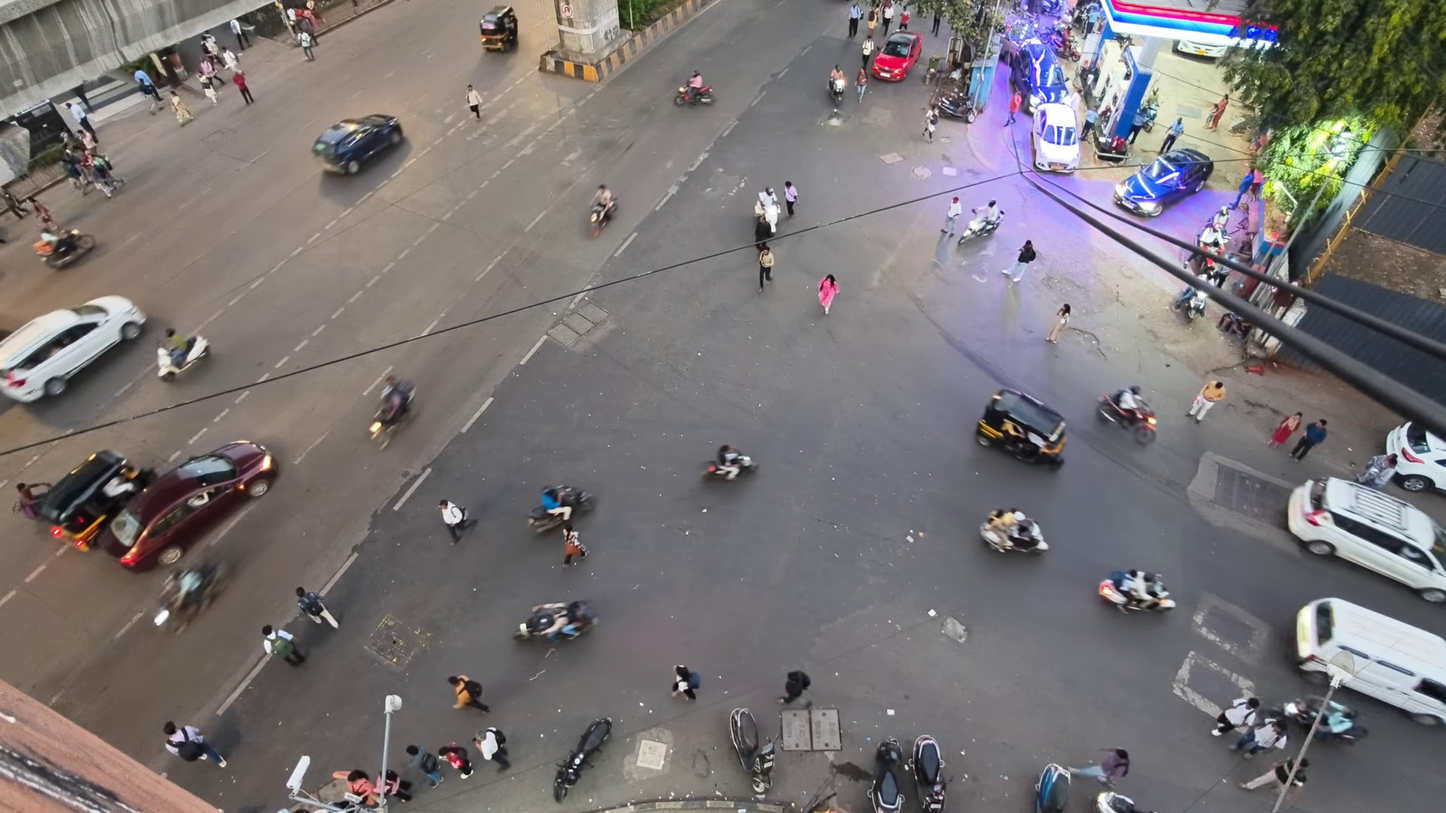walking: (1239, 758, 1309, 799), (163, 722, 226, 767), (1068, 748, 1128, 786), (1231, 720, 1286, 758), (1211, 696, 1259, 735), (295, 586, 338, 628), (332, 769, 379, 806), (262, 626, 305, 665), (405, 744, 443, 787), (439, 499, 474, 544), (1289, 419, 1326, 461), (447, 674, 489, 711), (473, 727, 509, 770), (1188, 382, 1225, 422), (1002, 240, 1036, 282), (1358, 453, 1397, 489), (1229, 168, 1261, 209), (438, 741, 472, 778), (134, 69, 160, 114), (68, 102, 97, 142), (1268, 412, 1302, 446), (779, 671, 810, 704), (26, 196, 56, 230), (671, 665, 700, 700), (563, 524, 587, 565), (383, 769, 412, 801), (1047, 303, 1070, 343), (0, 187, 28, 218), (1160, 117, 1184, 153), (818, 274, 838, 315), (170, 90, 193, 125), (758, 242, 774, 292), (1206, 94, 1228, 129), (941, 197, 961, 235), (1127, 109, 1147, 145), (200, 57, 224, 87), (1079, 108, 1099, 141), (233, 71, 253, 104), (923, 106, 940, 143), (229, 19, 249, 50), (1005, 91, 1022, 126), (466, 85, 481, 120), (848, 0, 862, 37), (200, 32, 219, 59), (755, 215, 771, 247), (784, 181, 798, 216), (882, 0, 894, 38), (298, 30, 313, 60), (222, 48, 239, 73), (856, 68, 868, 102), (203, 79, 218, 105), (862, 33, 874, 65), (867, 8, 879, 38), (898, 8, 909, 31), (932, 11, 941, 35)
